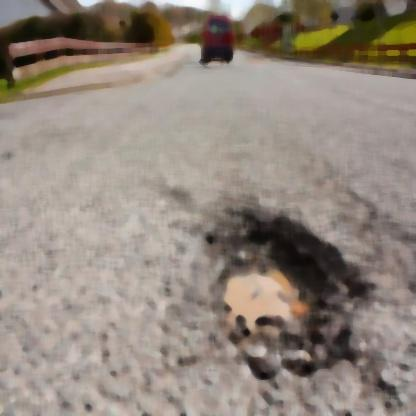Potholes: (219, 236, 332, 369)
